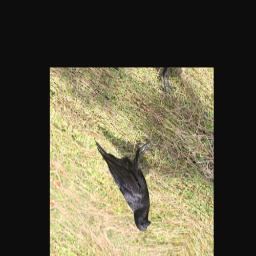Crow: (78, 105, 173, 236)
